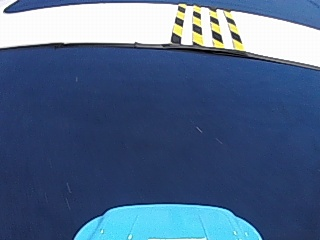bump: (165, 5, 242, 47)
